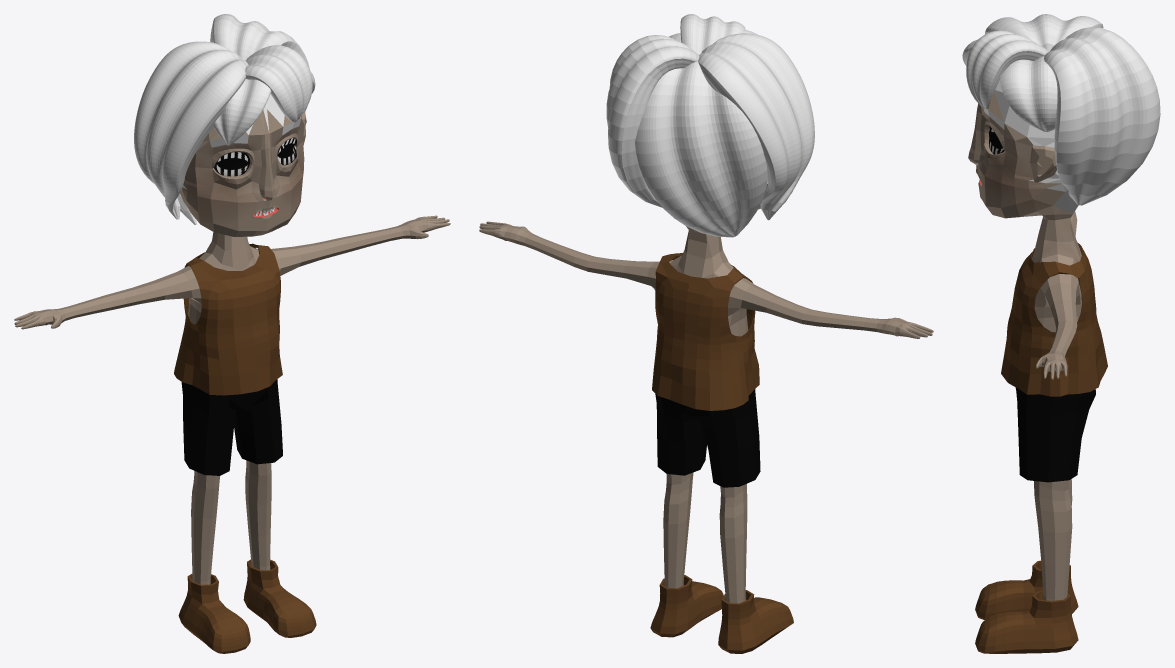
Rendered from character_LOD1.fbx.
3 views of the same model, side by side, from view 1: azimuth 30°, elevation 25°; view 2: azimuth 150°, elevation 25°; view 3: azimuth 270°, elevation 25° (orthographic). The views are drawn at different scales.
Parts seen in each view (by area): view 1: character_LOD1; view 2: character_LOD1; view 3: character_LOD1.
Boxes of the visible parts, box(x1,y1,x2,y2) form: character_LOD1: box(14, 14, 450, 653); character_LOD1: box(479, 14, 933, 653); character_LOD1: box(962, 14, 1160, 653).
Size of the model in its own units: 2340 by 2998 by 882.
